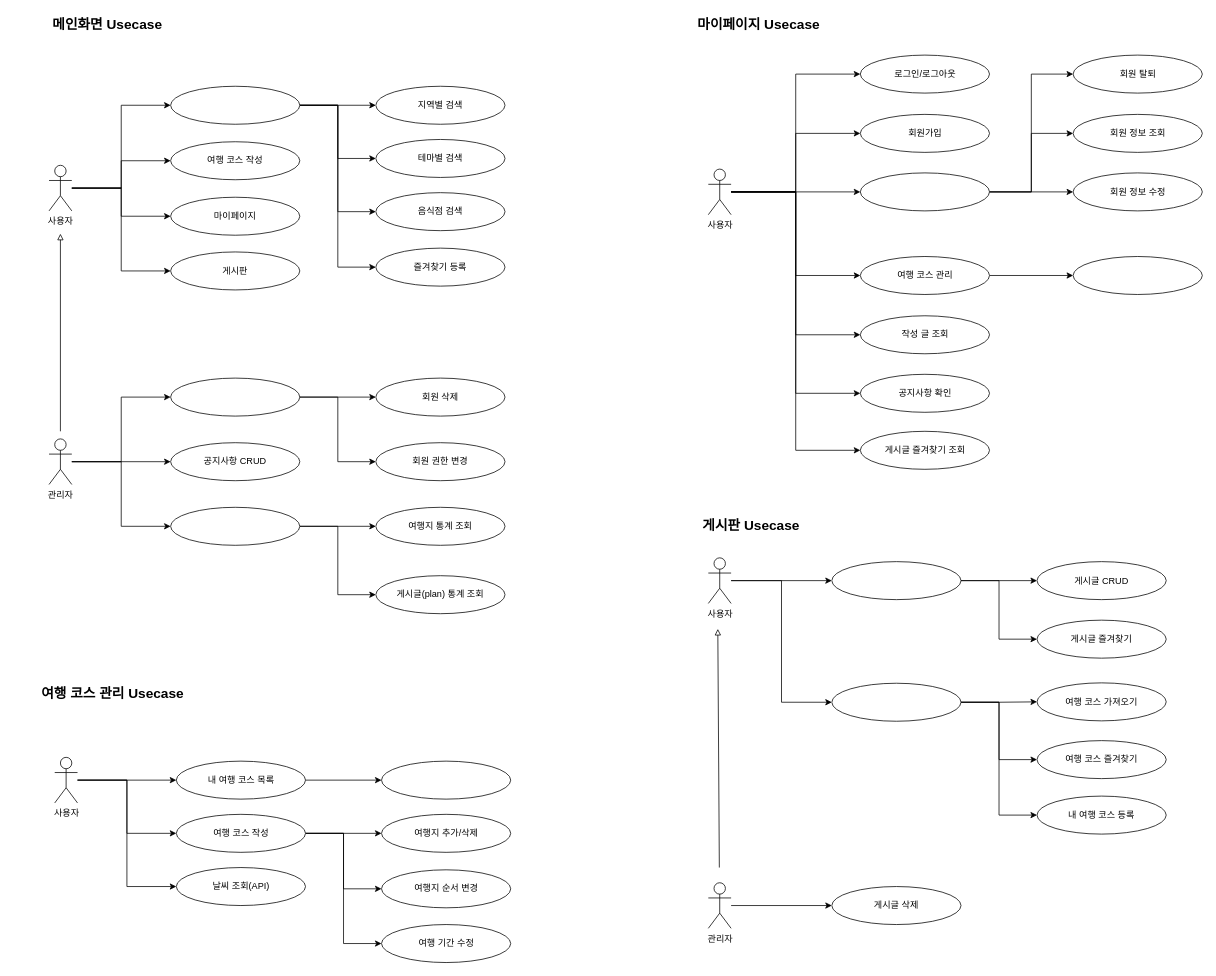
Image size: 1216x976. Some labels were removed from this diagram. The centre of each missing label's shape, as x and y in pixels:
"여행 코스 수정/삭제" belongs at pixel 446 779.
"여행지 검색" belongs at pixel 235 105.
"여행지 게시판" belongs at pixel 896 580.
"여행코스 게시판" belongs at pixel 896 701.
"통계(대시보드)" belongs at pixel 235 526.
"플랜 즐겨찾기 조회" belongs at pixel 1137 275.
"회원 관리" belongs at pixel 235 396.
"회원 정보 관리" belongs at pixel 925 191.
